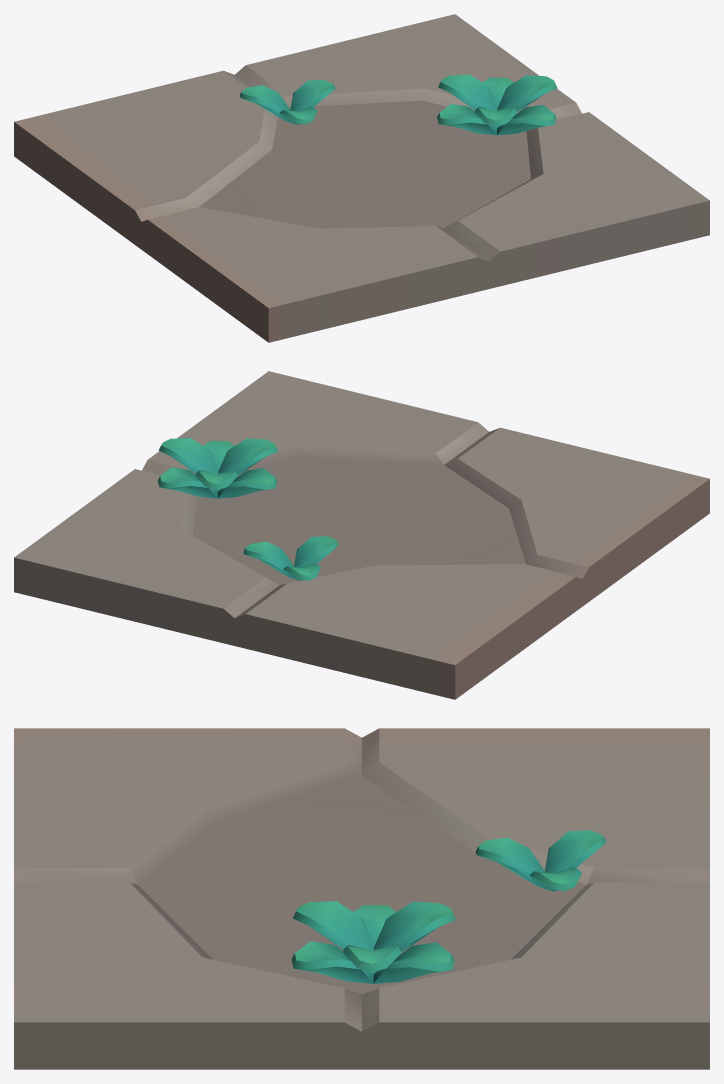
The model's file is floor_tile_small_weeds_B.glb.
3 renders of one model, top to bottom at view 1: azimuth 30°, elevation 25°; view 2: azimuth 150°, elevation 25°; view 3: azimuth 270°, elevation 25°, orthographic. The views are drawn at different scales.
Parts seen in each view (by area): view 1: floor_tile_small_weeds_B; view 2: floor_tile_small_weeds_B; view 3: floor_tile_small_weeds_B.
Boxes of the visible parts, x1=… form: floor_tile_small_weeds_B: x1=14, y1=14, x2=709, y2=342; floor_tile_small_weeds_B: x1=14, y1=371, x2=709, y2=699; floor_tile_small_weeds_B: x1=14, y1=728, x2=709, y2=1069.
Size of the model in its own units: 2 by 0.2954 by 2.
1 material, 1 textured.
